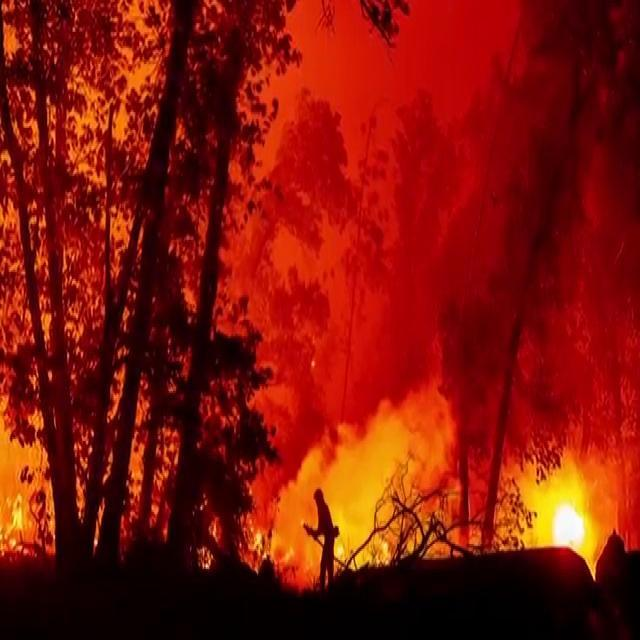Fire: (552, 500, 588, 554)
